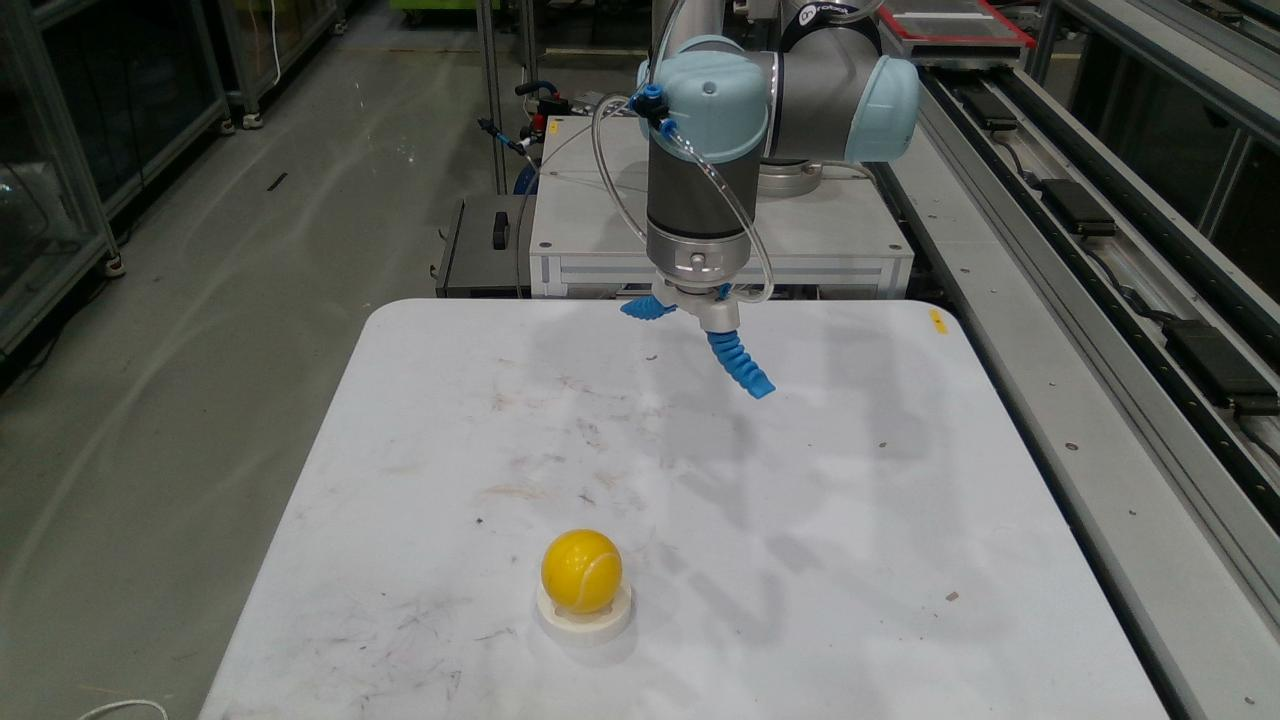UR5: (637, 0, 919, 334)
gripper_left: (621, 295, 676, 321)
gripper_right: (707, 330, 776, 398)
target: (540, 529, 622, 614), (536, 584, 632, 647)
